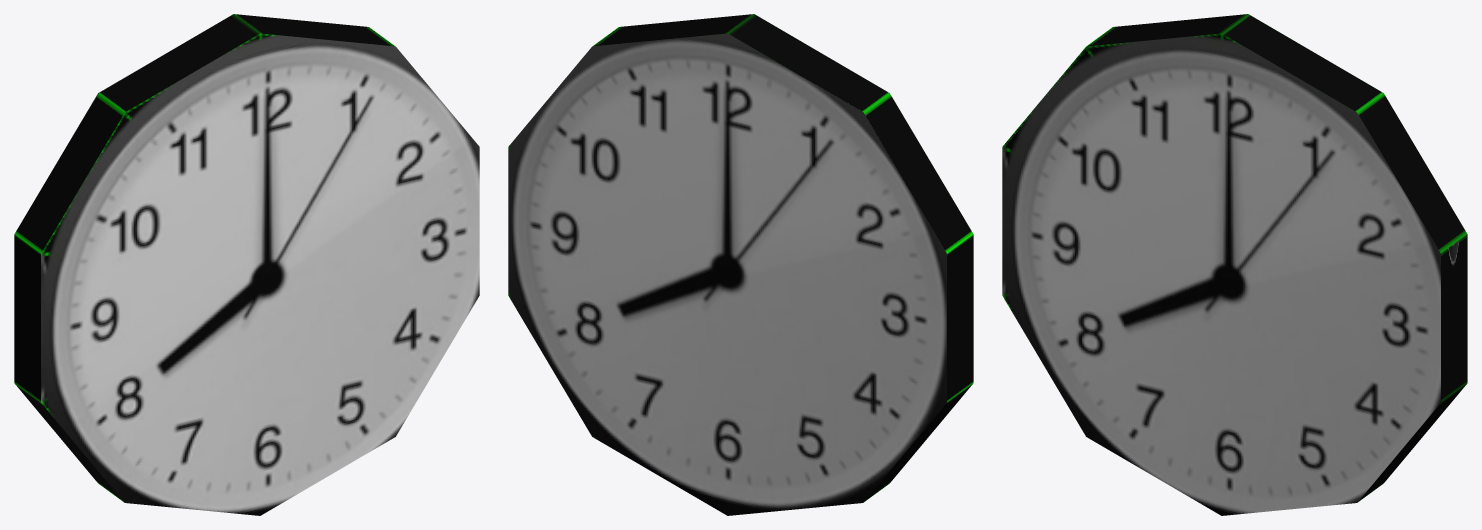
File: Clock.fbx
3 views of the same model, side by side, from view 1: azimuth 30°, elevation 25°; view 2: azimuth 150°, elevation 25°; view 3: azimuth 330°, elevation 25° (orthographic).
Parts seen in each view (by area): view 1: pCylinder6; view 2: pCylinder6; view 3: pCylinder6.
Part boxes in pixels (x1=…): pCylinder6: x1=14, y1=14, x2=479, y2=515; pCylinder6: x1=508, y1=14, x2=973, y2=515; pCylinder6: x1=1002, y1=14, x2=1467, y2=515.
Size of the model in its own units: 0.7491 by 0.7877 by 0.0788.
